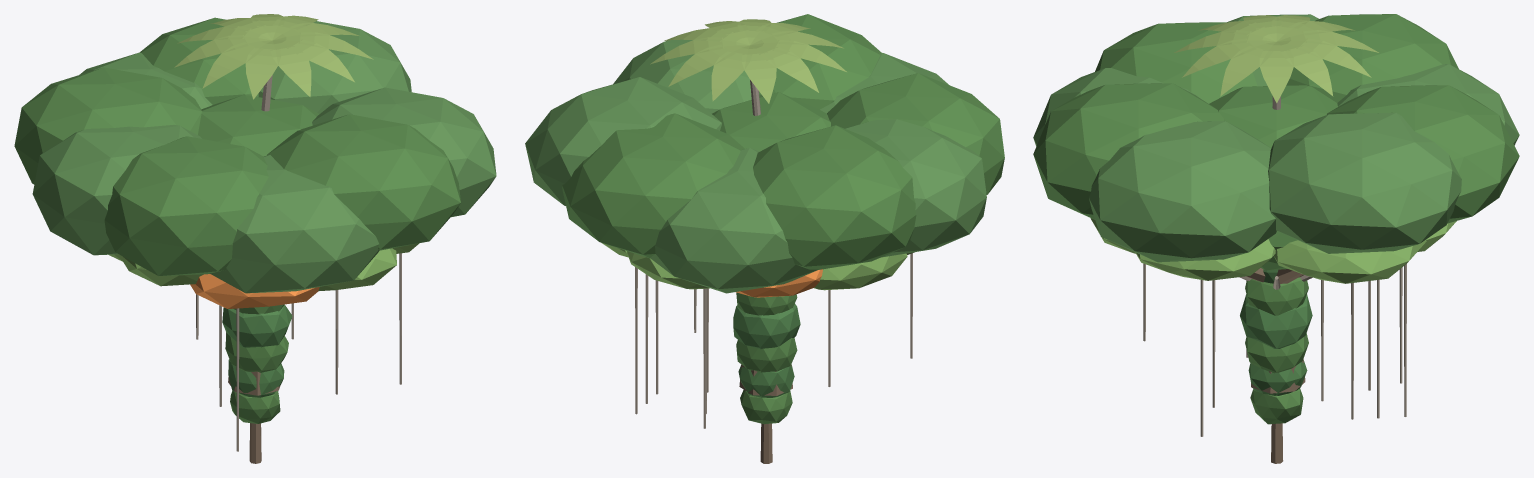
Rendered from trees.glb.
The picture shows the model from 3 angles, left to right: view 1: azimuth 30°, elevation 25°; view 2: azimuth 150°, elevation 25°; view 3: azimuth 270°, elevation 25°; orthographic projection. The views are drawn at different scales.
Visible parts, largest first — view 1: tree_banyan, tree_palm, tree_ashoka, tree_gulmohar; view 2: tree_banyan, tree_palm, tree_ashoka, tree_gulmohar; view 3: tree_banyan, tree_palm, tree_ashoka, tree_gulmohar.
Boxes of the visible parts, x1,y1,x2,y2 form: tree_banyan: [14, 17, 496, 451]; tree_palm: [174, 14, 373, 111]; tree_ashoka: [222, 304, 292, 463]; tree_gulmohar: [108, 243, 418, 308]; tree_banyan: [525, 14, 1004, 428]; tree_palm: [650, 19, 846, 115]; tree_ashoka: [733, 292, 800, 463]; tree_gulmohar: [602, 243, 914, 297]; tree_banyan: [1033, 14, 1519, 436]; tree_palm: [1174, 15, 1378, 109]; tree_ashoka: [1240, 269, 1312, 463]; tree_gulmohar: [1090, 218, 1456, 289].
Bounding box in the file's own units: 14.65 × 14.93 × 15.27.
